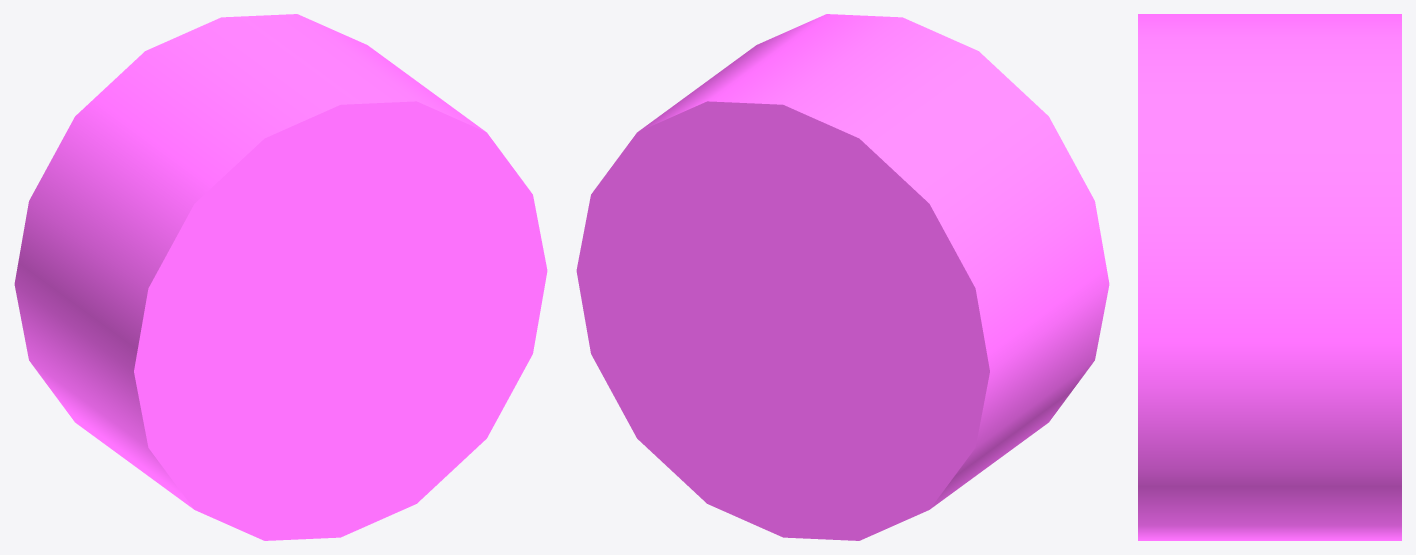
File: R_Motor.dae
3 views of the same model, side by side, from view 1: azimuth 30°, elevation 25°; view 2: azimuth 150°, elevation 25°; view 3: azimuth 270°, elevation 25° (orthographic). The views are drawn at different scales.
Visible parts, largest first — view 1: Brep; view 2: Brep; view 3: Brep.
Boxes of the visible parts, box(x1,y1,x2,y2) form: Brep: box(14, 14, 547, 540); Brep: box(576, 14, 1109, 540); Brep: box(1138, 14, 1401, 540).
Size of the model in its own units: 0.075 by 0.0375 by 0.075.
